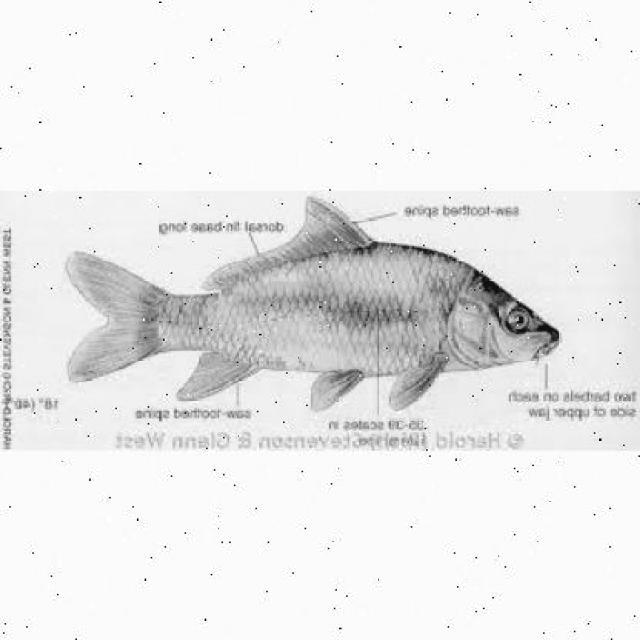ikan-mas: (64, 220, 560, 406)
